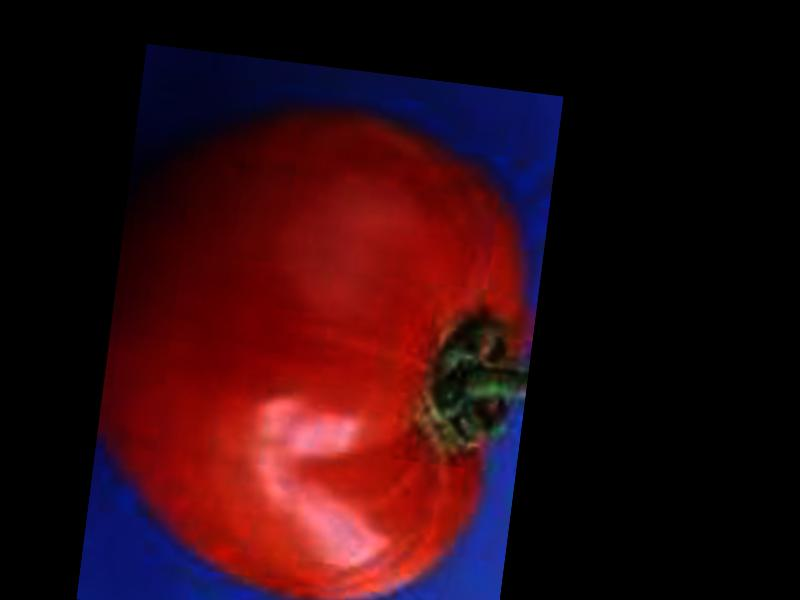Tomato: (82, 82, 555, 600)
